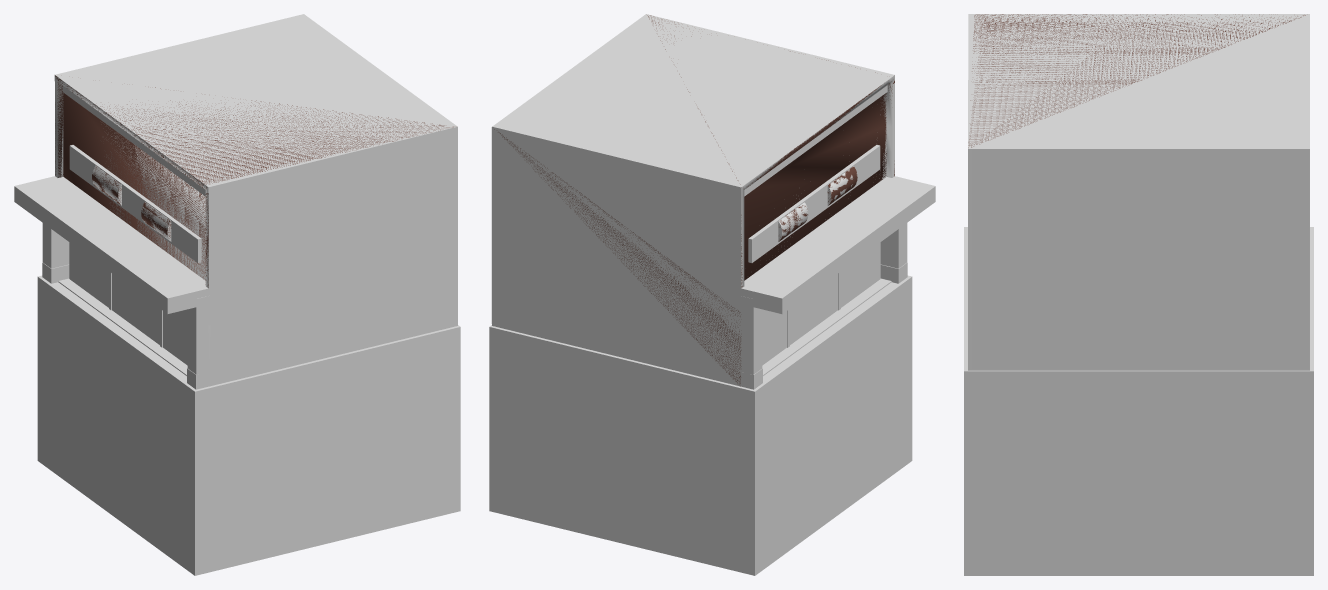
The model's file is CASASBAHIA.fbx.
3 renders of one model, left to right at view 1: azimuth 30°, elevation 25°; view 2: azimuth 150°, elevation 25°; view 3: azimuth 270°, elevation 25°, orthographic. The views are drawn at different scales.
Parts seen in each view (by area): view 1: CUBE_LOD0, CASASBAHIA_LOD0, OCC_OCLUSION1, UTM_CASABAHIA; view 2: CASASBAHIA_LOD0, CUBE_LOD0, UTM_CASABAHIA; view 3: OCC_OCLUSION2, CUBE_LOD0, CASASBAHIA_LOD0, UTM_CASABAHIA.
Boxes of the visible parts, x1,y1,x2,y2 form: CUBE_LOD0: (37, 275, 460, 575); CASASBAHIA_LOD0: (14, 14, 457, 389); OCC_OCLUSION1: (210, 128, 456, 384); UTM_CASABAHIA: (55, 75, 453, 287); CASASBAHIA_LOD0: (492, 14, 935, 389); CUBE_LOD0: (489, 275, 912, 575); UTM_CASABAHIA: (494, 15, 894, 386); OCC_OCLUSION2: (971, 150, 1309, 369); CUBE_LOD0: (964, 227, 1313, 575); CASASBAHIA_LOD0: (968, 14, 1309, 370); UTM_CASABAHIA: (968, 14, 1305, 147).
Size of what is drawn, in the model's own units: 976 by 1228 by 914.
